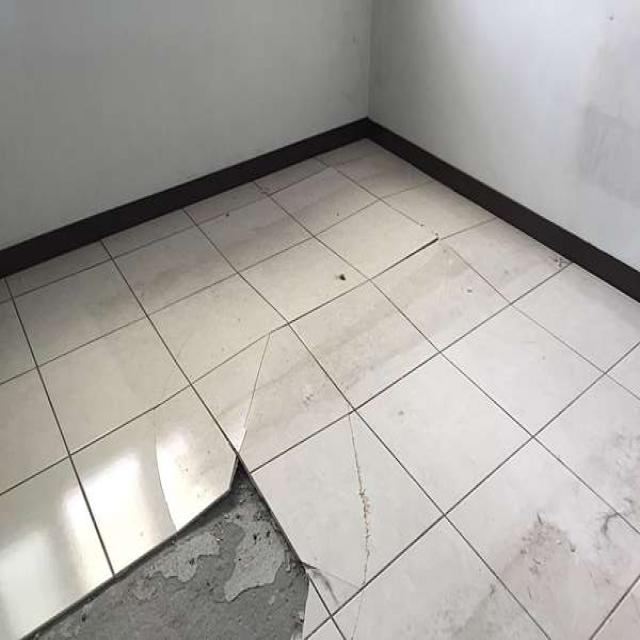Crack: (347, 403, 371, 640), (238, 333, 270, 452), (154, 412, 178, 532), (161, 363, 175, 402), (177, 332, 193, 359)
tile: (22, 454, 310, 640)
